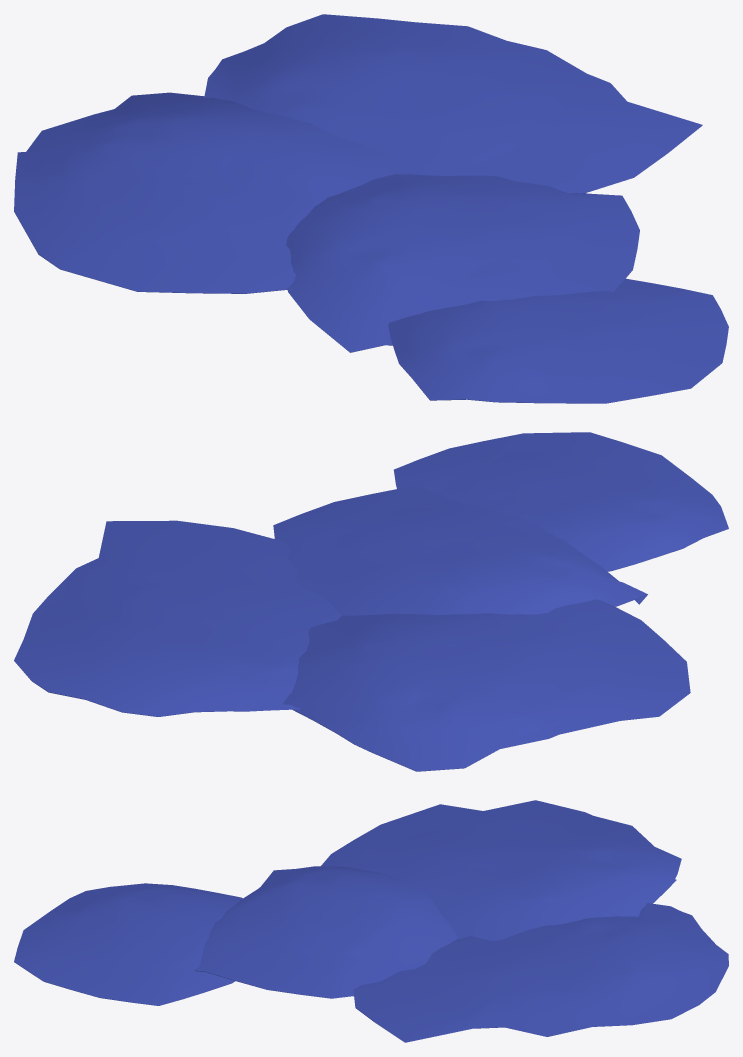
The model's file is Floor_Break_06B_Lod0.fbx.
3 views of the same model, one above another, from view 1: azimuth 30°, elevation 25°; view 2: azimuth 150°, elevation 25°; view 3: azimuth 270°, elevation 25° (orthographic). The views are drawn at different scales.
Parts seen in each view (by area): view 1: Floor_Break_06B_Lod0; view 2: Floor_Break_06B_Lod0; view 3: Floor_Break_06B_Lod0.
Part boxes in pixels (x1,y1,x2,y2): Floor_Break_06B_Lod0: (14, 14, 728, 403); Floor_Break_06B_Lod0: (14, 432, 728, 771); Floor_Break_06B_Lod0: (14, 800, 728, 1042).
Bounding box in the file's own units: 818 × 77.43 × 1010.
